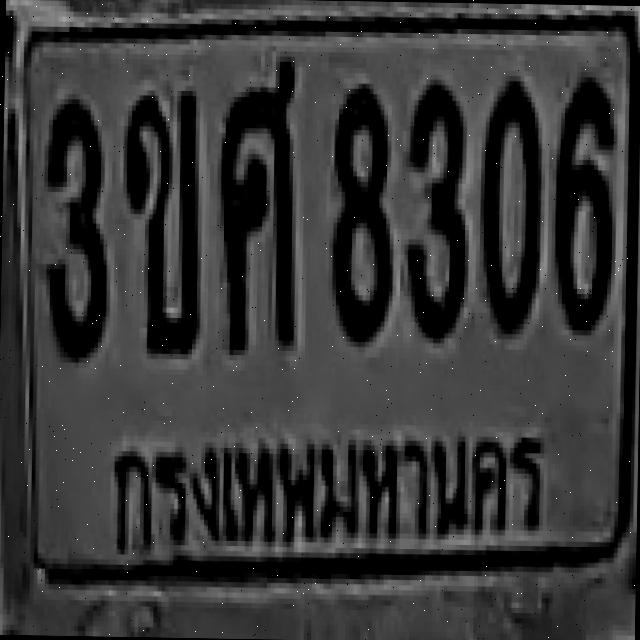0: (476, 75, 540, 329)
11KhorKhai: (120, 84, 200, 348)
3: (38, 93, 108, 357), (401, 77, 465, 336)
47SorSala: (213, 58, 294, 348)
6: (550, 71, 614, 330)
8: (328, 80, 392, 339)
Bangkok: (90, 400, 566, 582)
